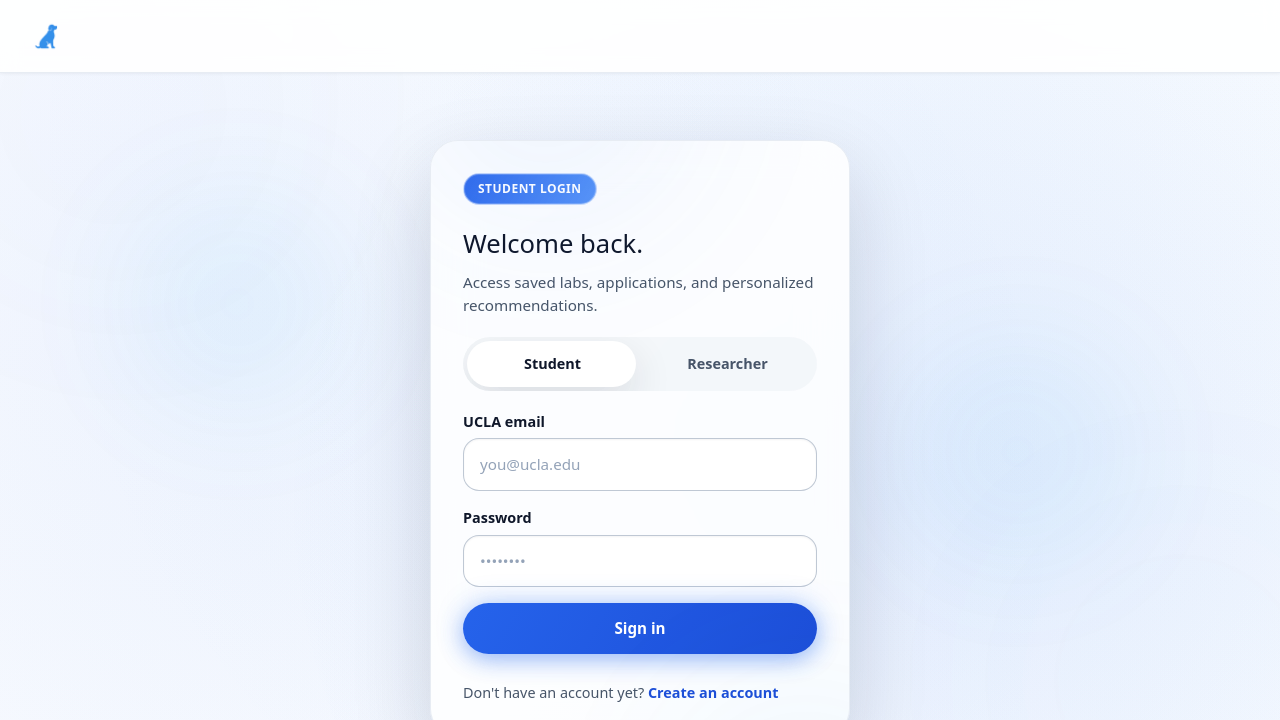
Test: Functionality Tests › Authentication - Login › should show field errors on login failure
Type "invalid@ucla.edu" into the field named "email".
click(640, 465); type("invalid@ucla.edu")  # box x1=463 y1=438 x2=817 y2=491
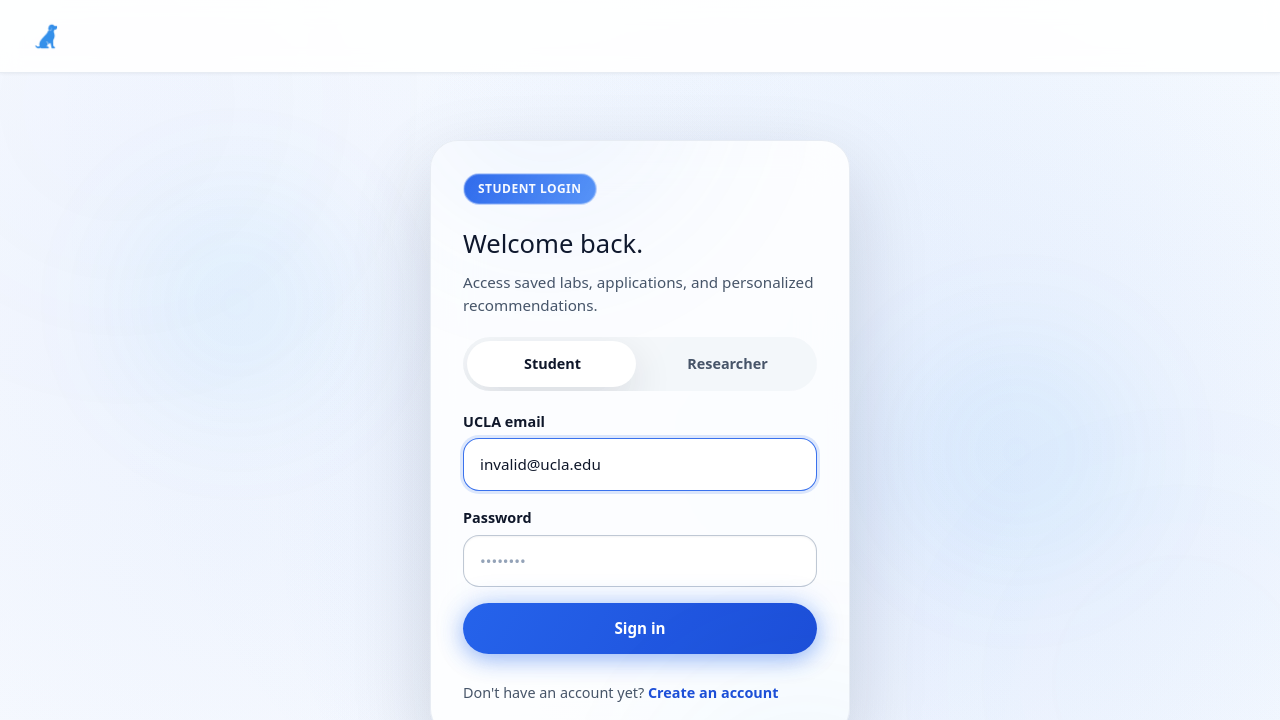
Type "wrongpassword" into the password field named "password".
click(640, 562); type("wrongpassword")  # box x1=463 y1=535 x2=817 y2=588
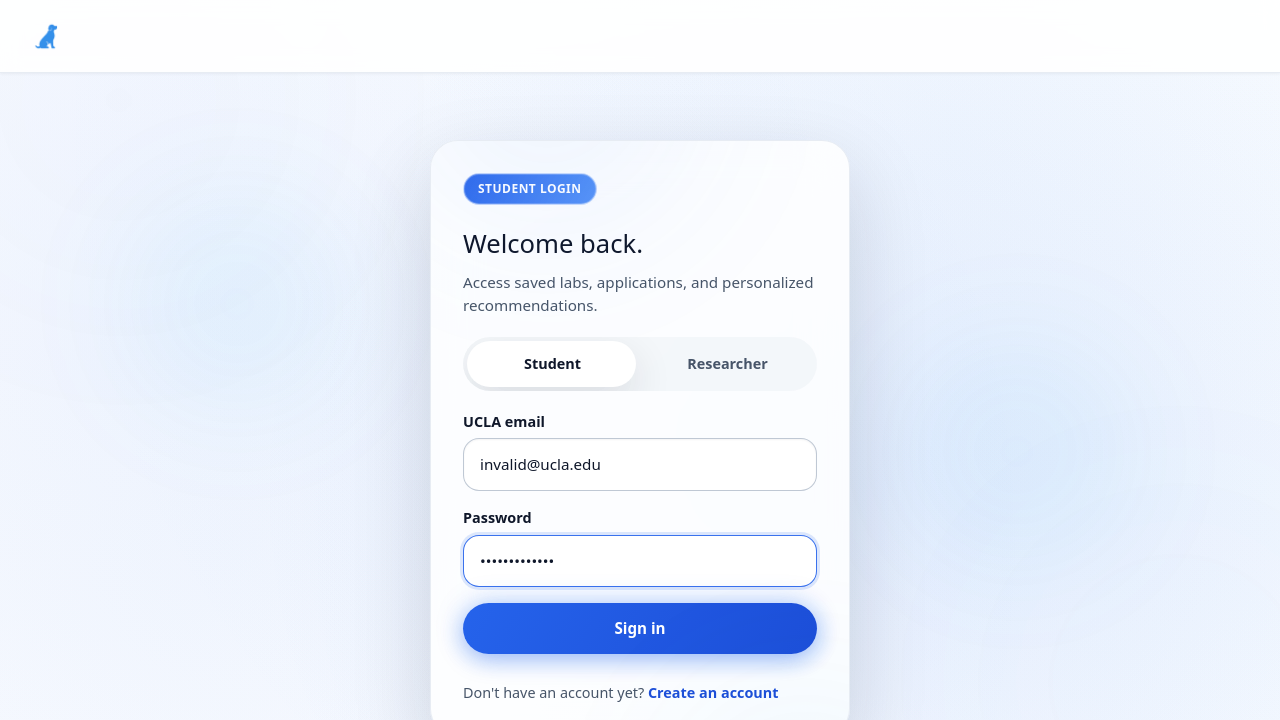
Click the submit button.
click(640, 629)  # box x1=463 y1=603 x2=817 y2=654
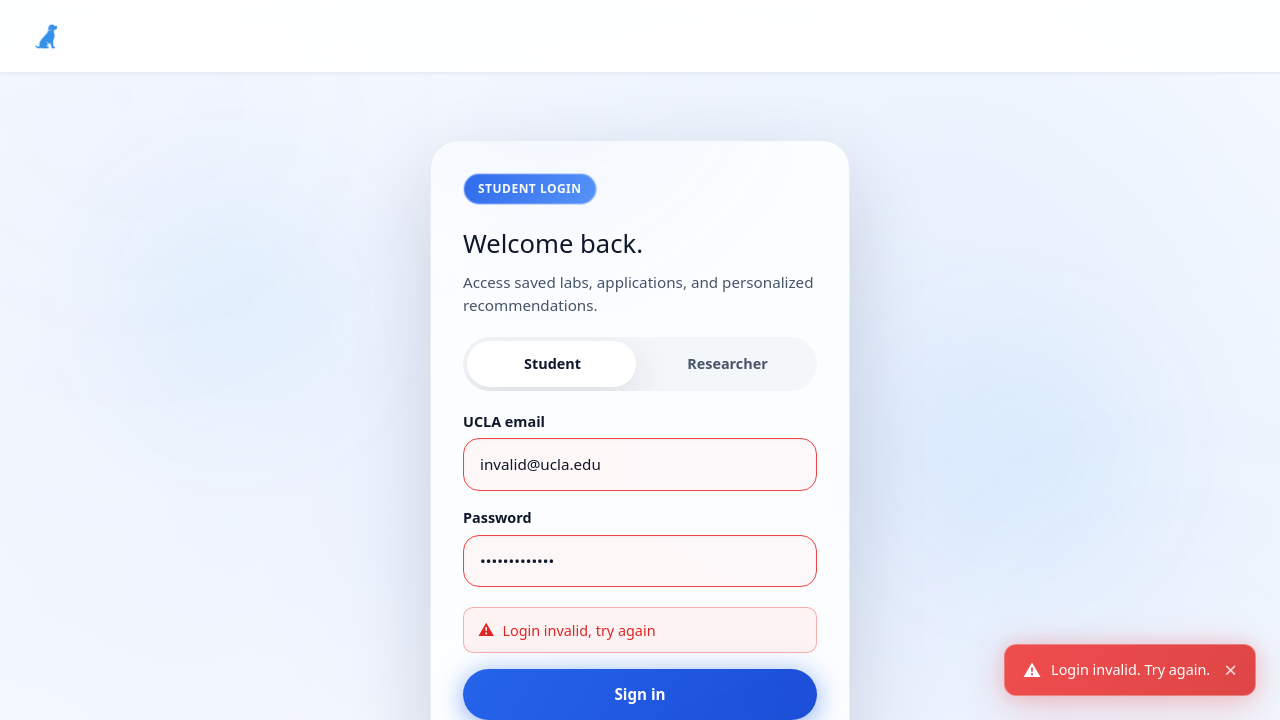
Now the element with class "auth-form-error" is shown, box x1=463 y1=607 x2=817 y2=653
